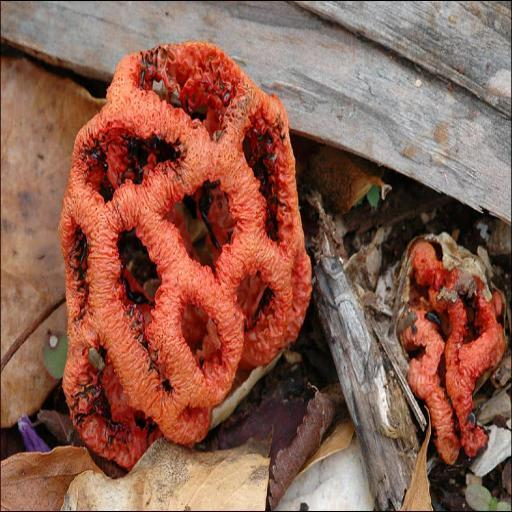mushroom: (56, 39, 315, 468), (397, 234, 509, 465)
